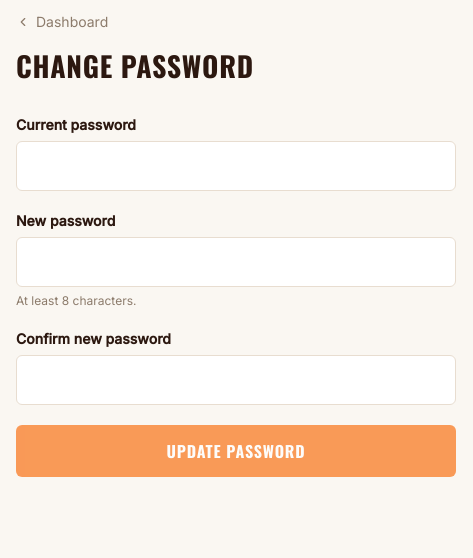
Test case: ChangePasswordPage › shows API error on failure
Type "wrongpass" into the password field labelled "Current password".
click(236, 166); type("wrongpass")  # box [16,141,456,191]
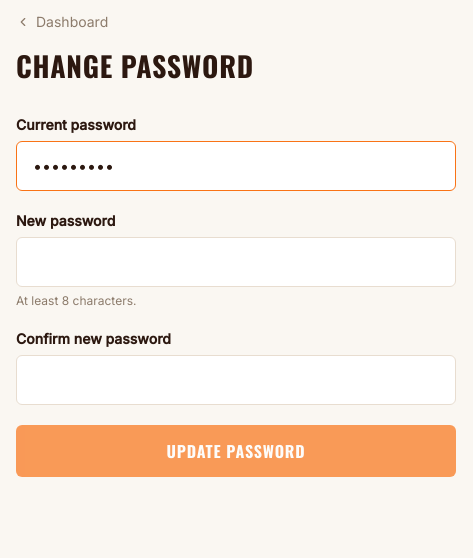
Type "newpass123" into the password field labelled "New password".
click(236, 262); type("newpass123")  # box [16,237,456,287]
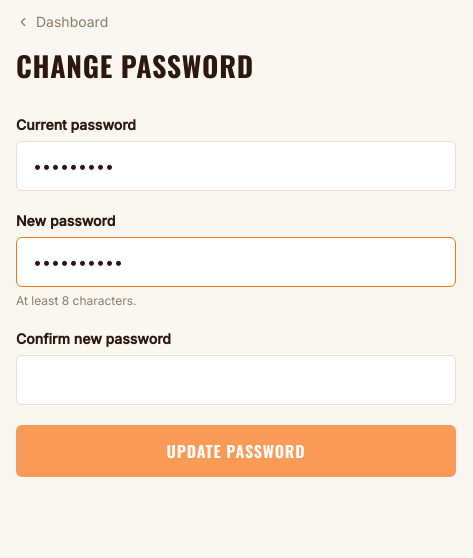
Type "newpass123" into the password field labelled "Confirm new password".
click(236, 380); type("newpass123")  # box [16,355,456,405]
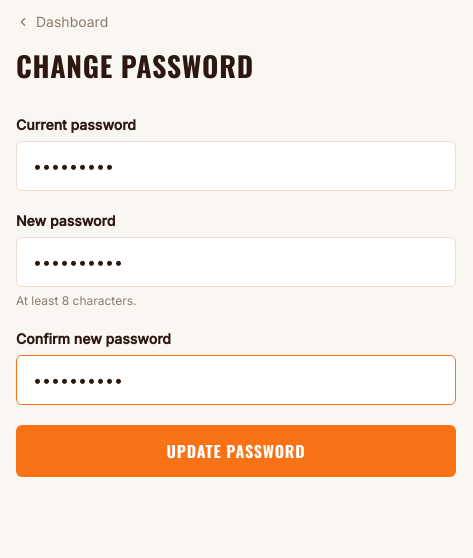
Click the button "Update password".
click(236, 451)  # box [16,425,456,477]
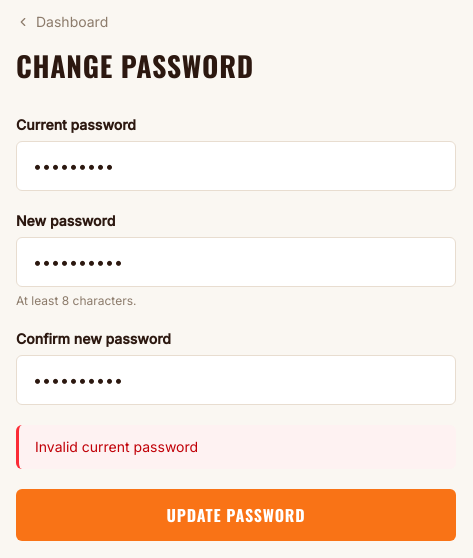
Now the text "Invalid current password" is shown, box [35,438,198,455]
